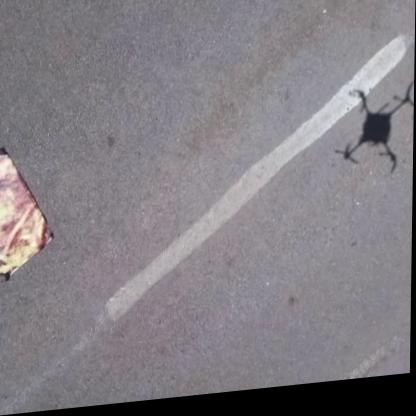fire-poster: (0, 141, 56, 285)
